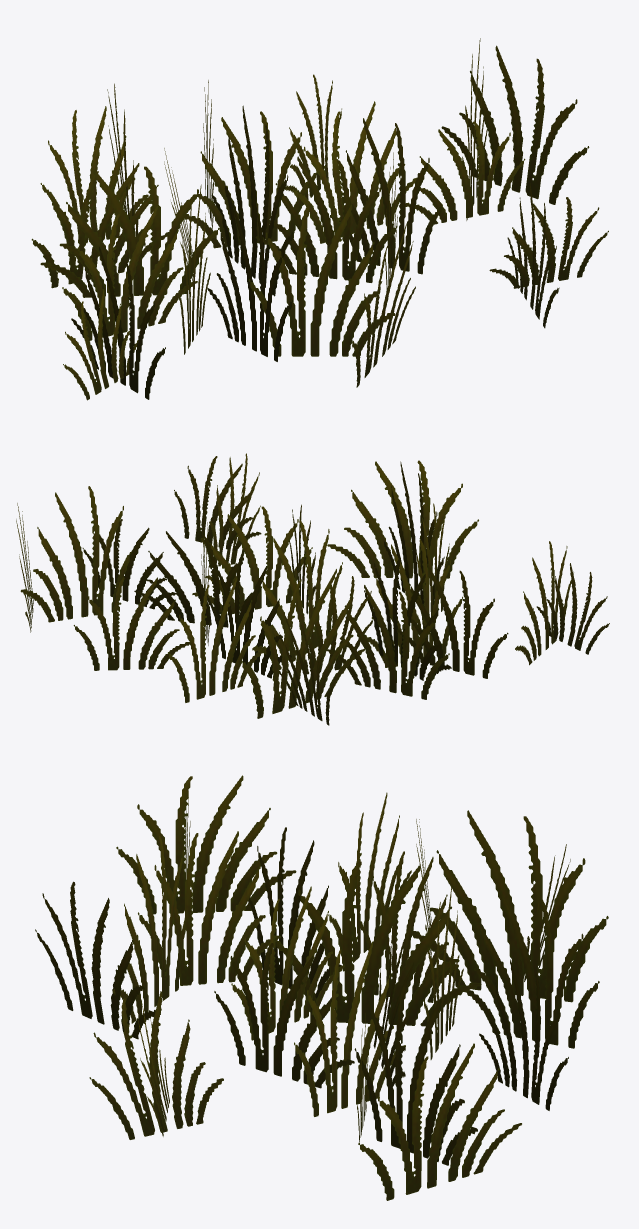
Rendered from 10104_Plant07.FBX.
3 views of the same model, one above another, from view 1: azimuth 30°, elevation 25°; view 2: azimuth 150°, elevation 25°; view 3: azimuth 270°, elevation 25° (orthographic). The views are drawn at different scales.
Parts seen in each view (by area): view 1: Plant07_b; view 2: Plant07_b; view 3: Plant07_b.
Boxes of the visible parts, box(x1,y1,x2,y2) form: Plant07_b: box(31, 38, 608, 400); Plant07_b: box(16, 453, 609, 725); Plant07_b: box(35, 775, 608, 1200).
Size of the model in its own units: 166 by 45.89 by 126.
